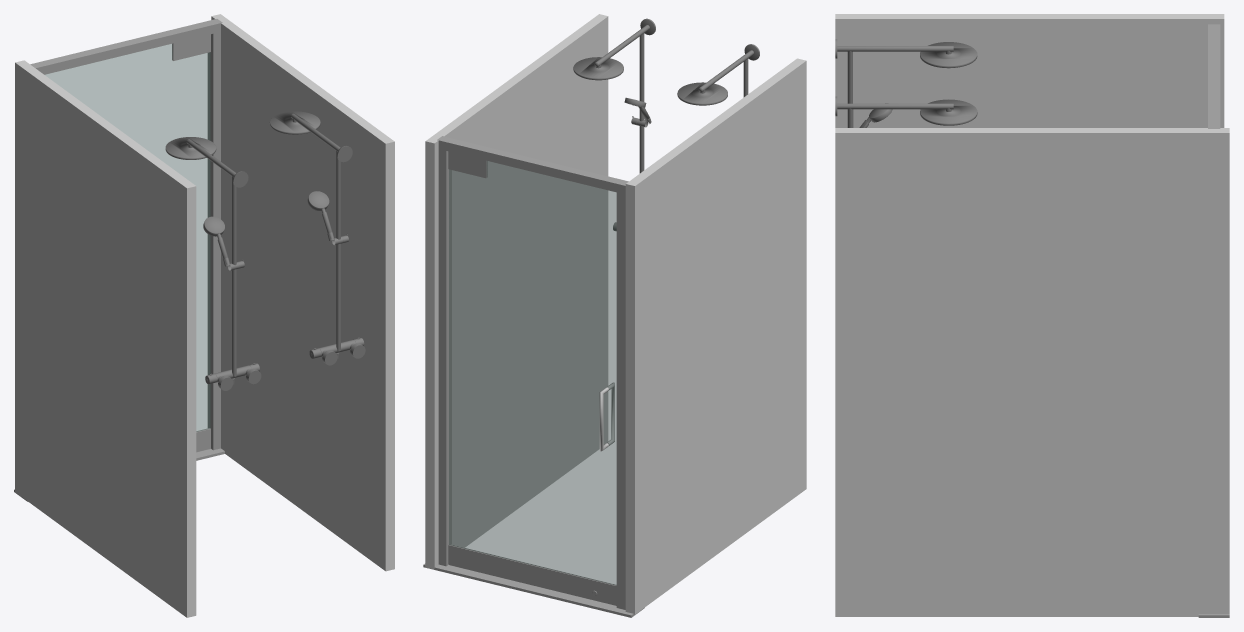
The model's file is bathroommodel3.fbx.
The picture shows the model from 3 angles, left to right: view 1: azimuth 30°, elevation 25°; view 2: azimuth 150°, elevation 25°; view 3: azimuth 270°, elevation 25°; orthographic projection. The views are drawn at different scales.
Parts seen in each view (by area): view 1: Group1, Glass1, Door_Trim1, hcb00418_dwg1, hcb00418_dwg2, Glass_Supporter1; view 2: Group1, Glass1, Door_Trim1, Glass_Supporter_Bottom1, hcb00418_dwg1, Bottom1, hcb00418_dwg2, Glass_Supporter1; view 3: Group1, hcb00418_dwg2, hcb00418_dwg1, Door_Trim1.
Part boxes in pixels (bbox=[...]): Group1: bbox=[15, 14, 394, 617]; Glass1: bbox=[45, 44, 210, 431]; Door_Trim1: bbox=[30, 19, 222, 450]; hcb00418_dwg1: bbox=[269, 111, 365, 365]; hcb00418_dwg2: bbox=[165, 137, 261, 390]; Glass_Supporter1: bbox=[172, 34, 210, 60]; Group1: bbox=[425, 14, 806, 614]; Glass1: bbox=[449, 161, 616, 584]; Door_Trim1: bbox=[437, 136, 628, 609]; Glass_Supporter_Bottom1: bbox=[448, 544, 616, 605]; hcb00418_dwg1: bbox=[573, 18, 655, 230]; Bottom1: bbox=[423, 563, 644, 617]; hcb00418_dwg2: bbox=[677, 44, 759, 105]; Glass_Supporter1: bbox=[448, 151, 487, 178]; Group1: bbox=[835, 14, 1229, 616]; hcb00418_dwg2: bbox=[835, 39, 977, 127]; hcb00418_dwg1: bbox=[835, 96, 977, 127]; Door_Trim1: bbox=[1208, 24, 1220, 128].
Size of the model in its own units: 112 by 223 by 162.
